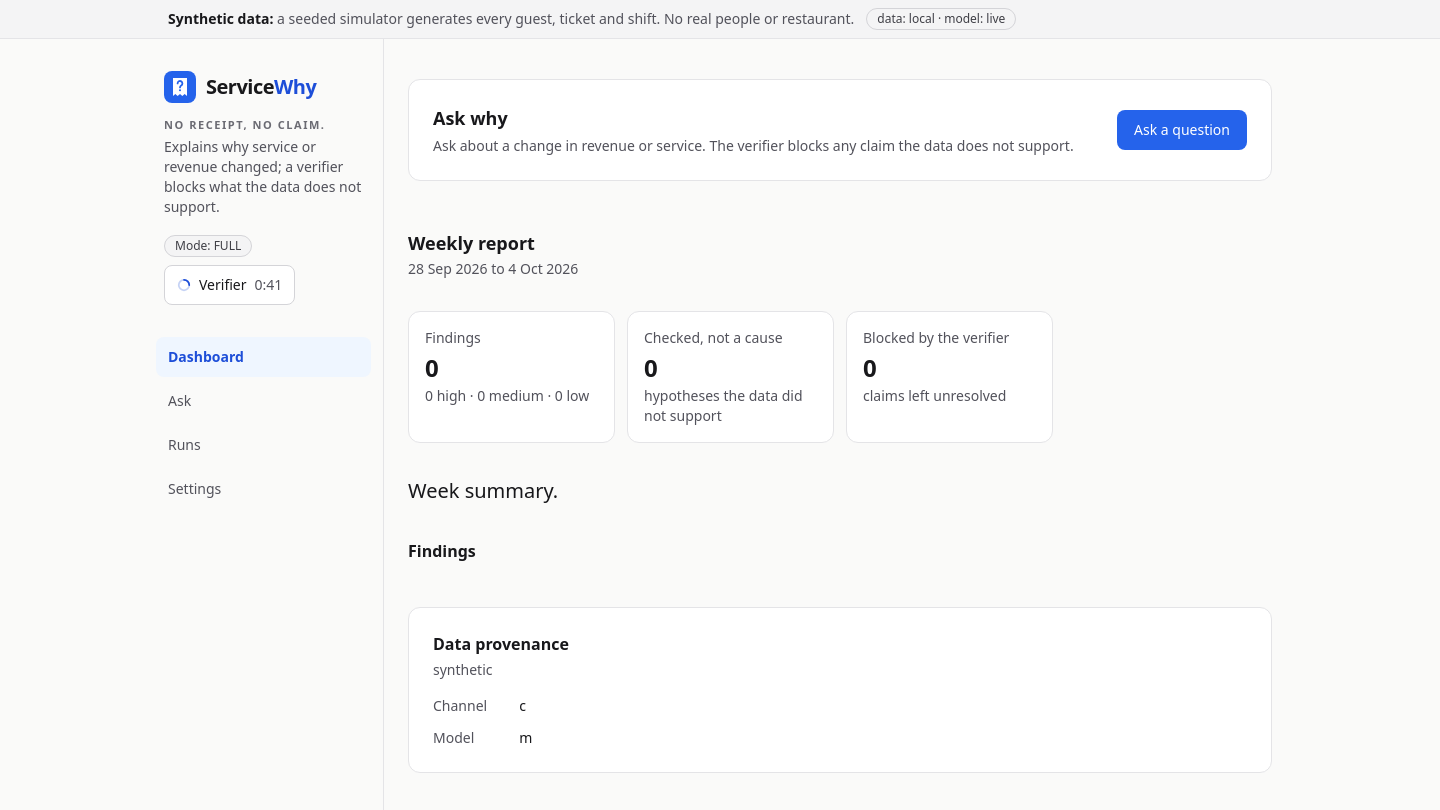
Test case: the panel shows kind, question, counters, model, and a link to the full trace per run
This screenshot has width=1440, height=810.
Click the button with test id "activity-pill": (230, 285) [164,265,295,305]
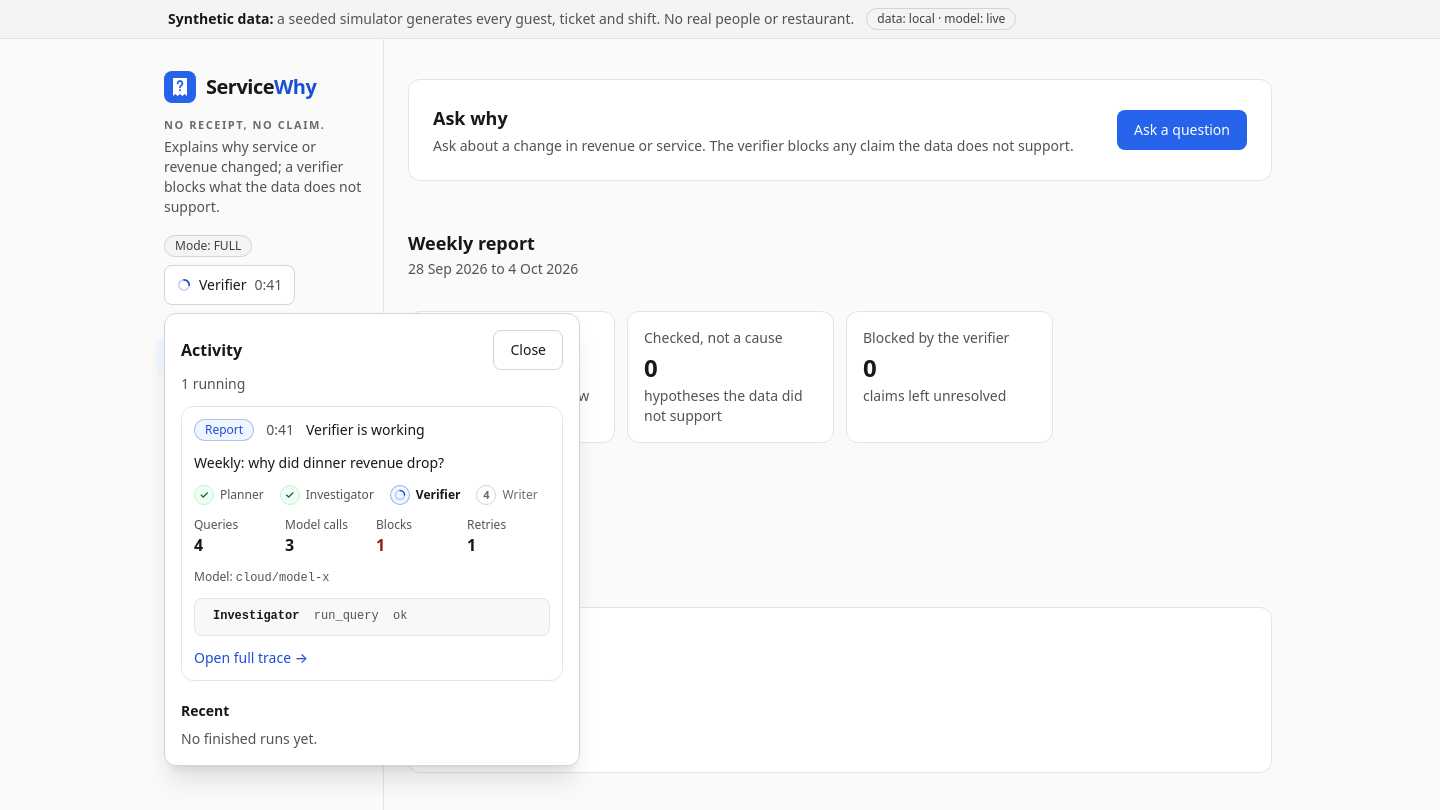
Check: the text "Report" is shown, box [194,419,254,441]
Check: the text "Weekly: why did dinner revenue drop?" is shown, box [194,453,444,472]
Check: the text "cloud/model-x" is shown, box [236,571,329,585]
